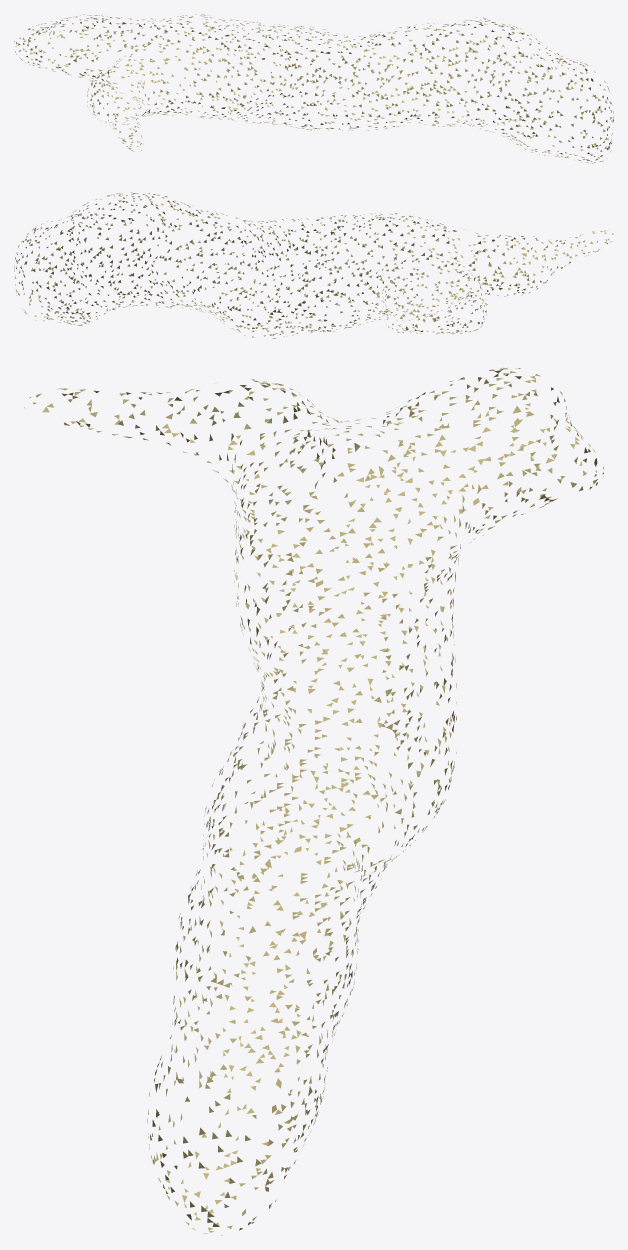
The model's file is morph_008.glb.
3 views of the same model, one above another, from view 1: azimuth 30°, elevation 25°; view 2: azimuth 150°, elevation 25°; view 3: azimuth 270°, elevation 25° (orthographic). The views are drawn at different scales.
Bounding box in the file's own units: 115 × 44.31 × 55.33.
